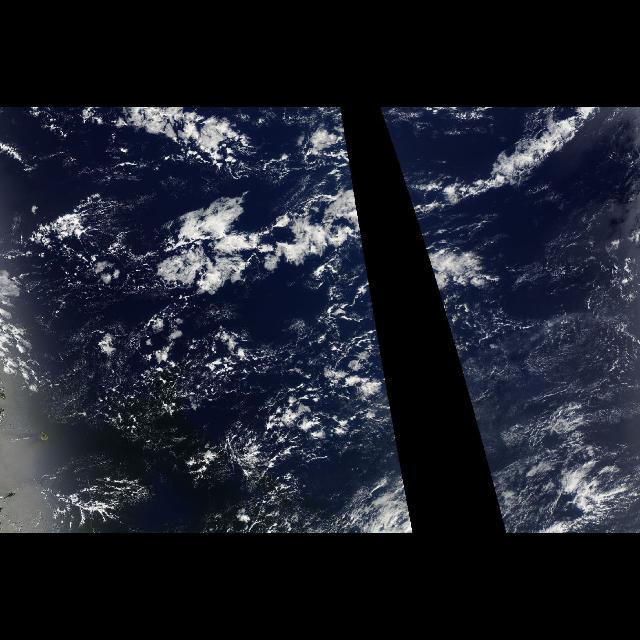Fish: (21, 110, 373, 298), (380, 110, 600, 298)
Gravel: (126, 311, 400, 503)
Sugar: (440, 283, 640, 477), (378, 333, 404, 477)
